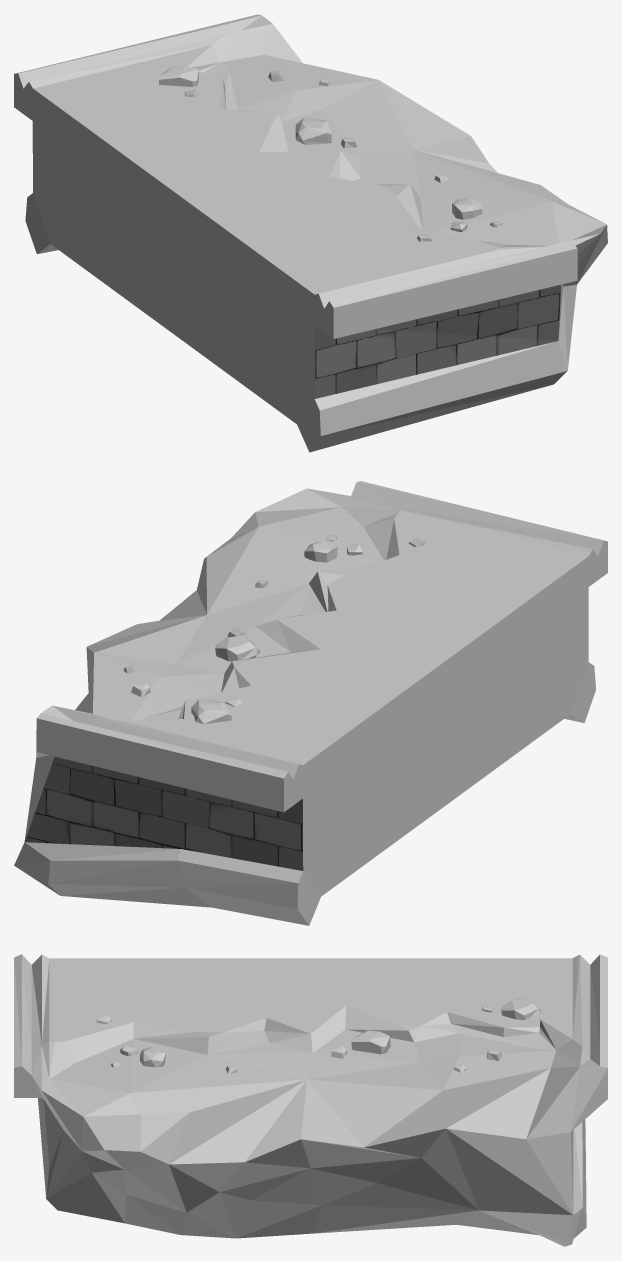
Rendered from SM_Bld_Bridge_Base_01_Damaged_03.fbx.
The picture shows the model from 3 angles, top to bottom: view 1: azimuth 30°, elevation 25°; view 2: azimuth 150°, elevation 25°; view 3: azimuth 270°, elevation 25°; orthographic projection. The views are drawn at different scales.
Parts seen in each view (by area): view 1: SM_Bld_Bridge_Base_01_Damaged_03; view 2: SM_Bld_Bridge_Base_01_Damaged_03; view 3: SM_Bld_Bridge_Base_01_Damaged_03.
Part boxes in pixels (x1,y1,x2,y2): SM_Bld_Bridge_Base_01_Damaged_03: (14, 14, 607, 452); SM_Bld_Bridge_Base_01_Damaged_03: (14, 481, 607, 925); SM_Bld_Bridge_Base_01_Damaged_03: (14, 954, 607, 1246).
Bounding box in the file's own units: 340 × 204 × 568.
